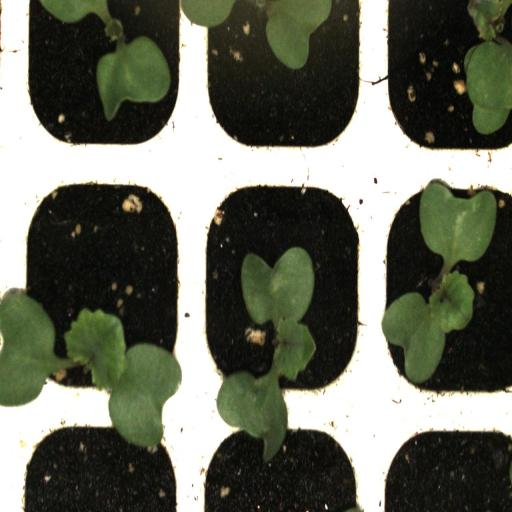Folha: (464, 0, 512, 135), (262, 0, 334, 71)
Germinacao: (11, 166, 192, 408), (194, 166, 373, 410), (375, 165, 512, 413), (11, 0, 197, 163)
